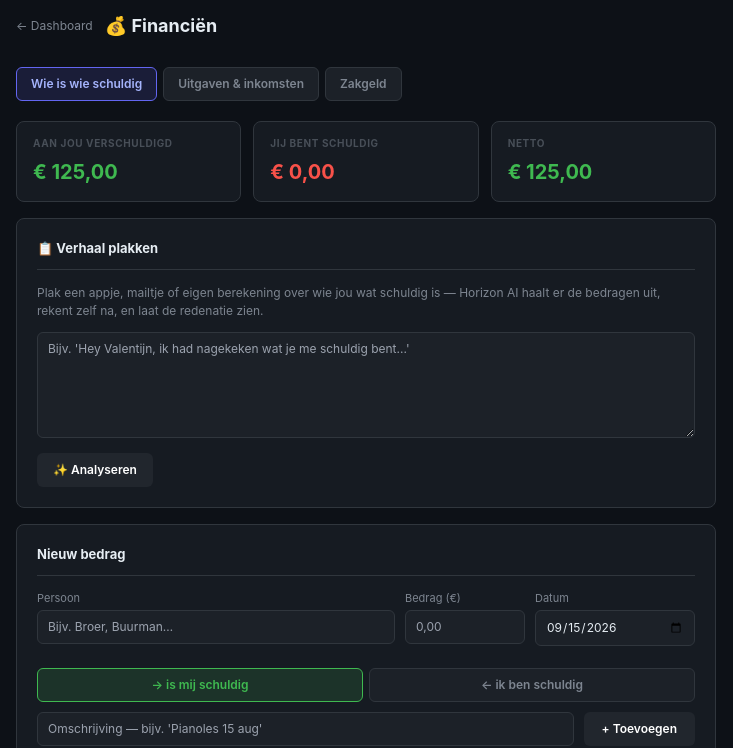
Test: FinanceClient — tabs › toont de schulden-tab standaard en wisselt naar transacties
Expected: the heading "Nieuw bedrag" is shown, [37,545,695,576]
Expected: the text "Afschrift uploaden" is not shown
Click the button "Uitgaven & inkomsten".
click(241, 84)  # box [163,67,319,101]
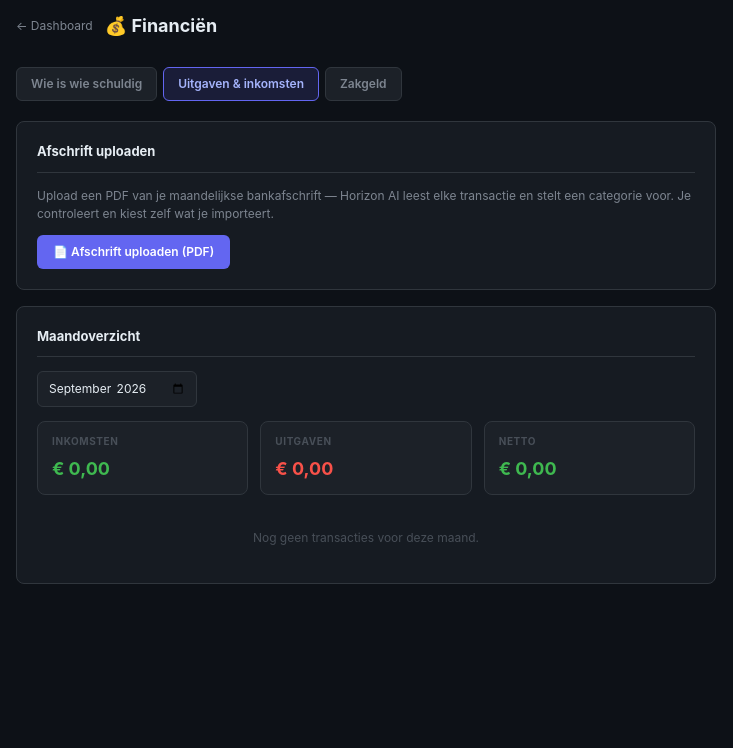
Expected: the heading "Afschrift uploaden" is shown, [37,142,695,172]
Expected: the heading "Nieuw bedrag" is gone
